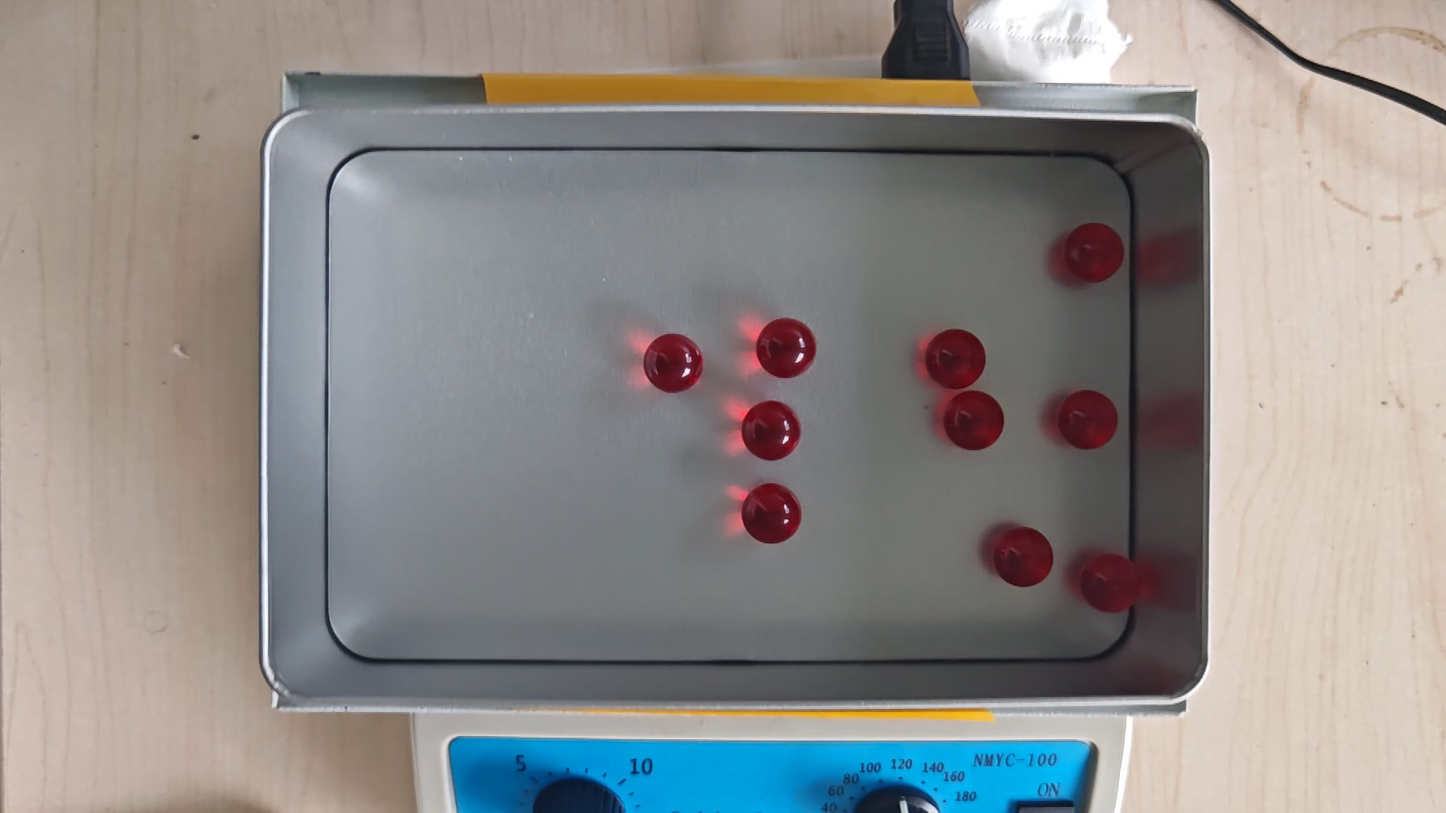ball: (943, 390, 1005, 452), (741, 483, 803, 545), (1058, 389, 1119, 452), (1080, 552, 1141, 615), (926, 328, 987, 389), (994, 525, 1053, 588), (757, 317, 816, 379), (644, 332, 703, 394), (1065, 222, 1124, 283), (742, 400, 801, 461)
container: (326, 150, 1132, 662)
